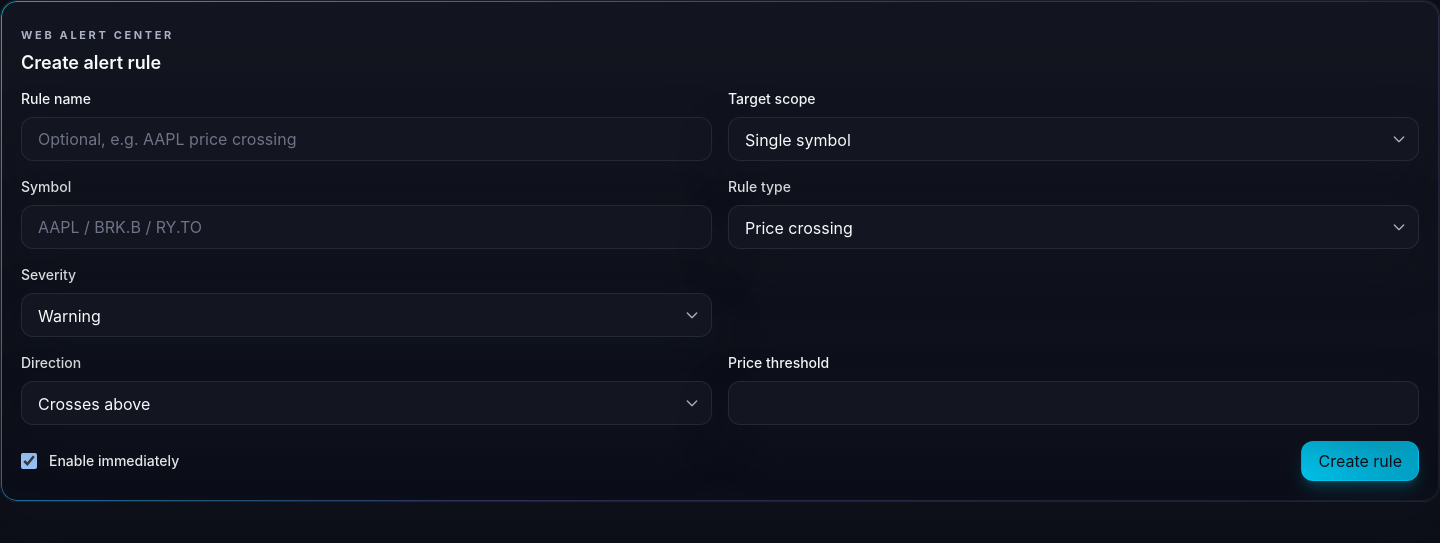
Test: AlertRuleForm › keeps all account option when account loading fails
Select "Portfolio holdings" in the dropdown labelled "Target scope" at (1074, 139), box top-left (728, 117), bottom-right (1419, 161)
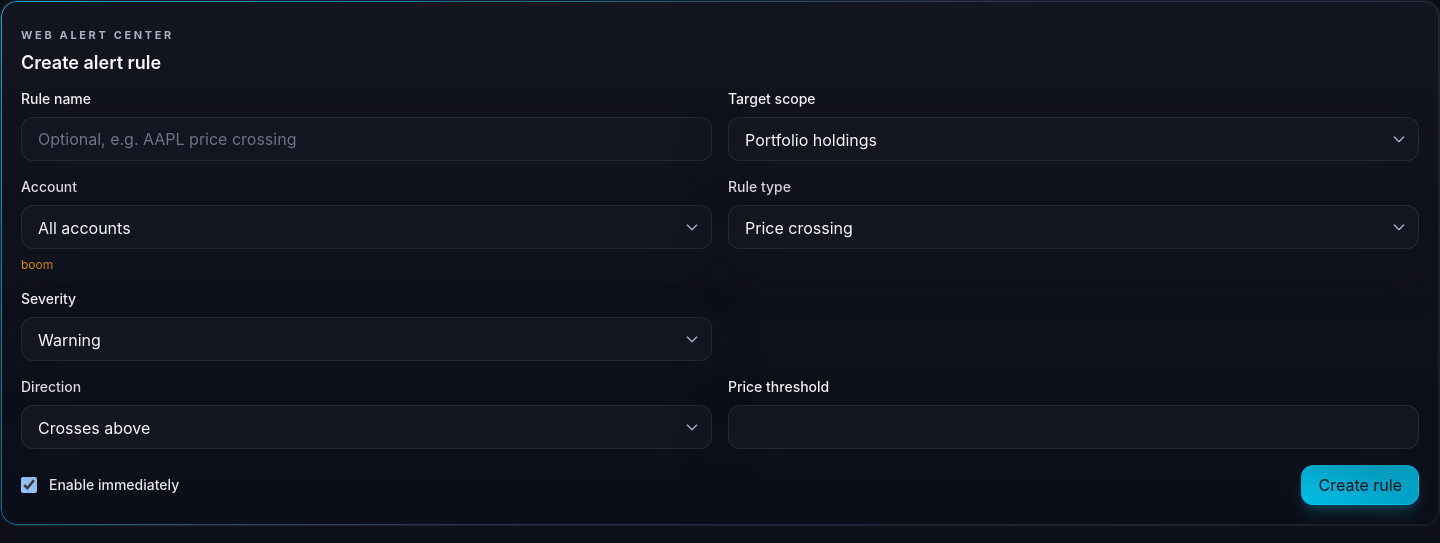
Result: the message reads "boom" at top-left (21, 257), bottom-right (53, 272)
Result: the dropdown labelled "Account" shows "All accounts" at top-left (21, 205), bottom-right (712, 249)
